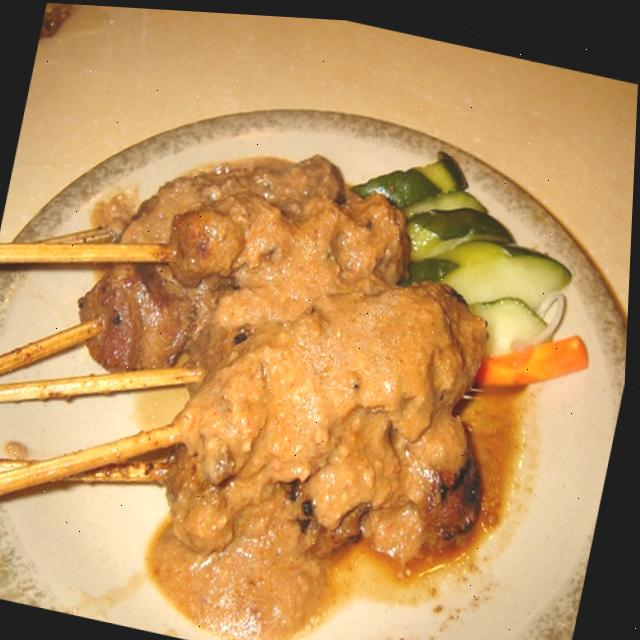牛肉菜式: (0, 23, 639, 640)
